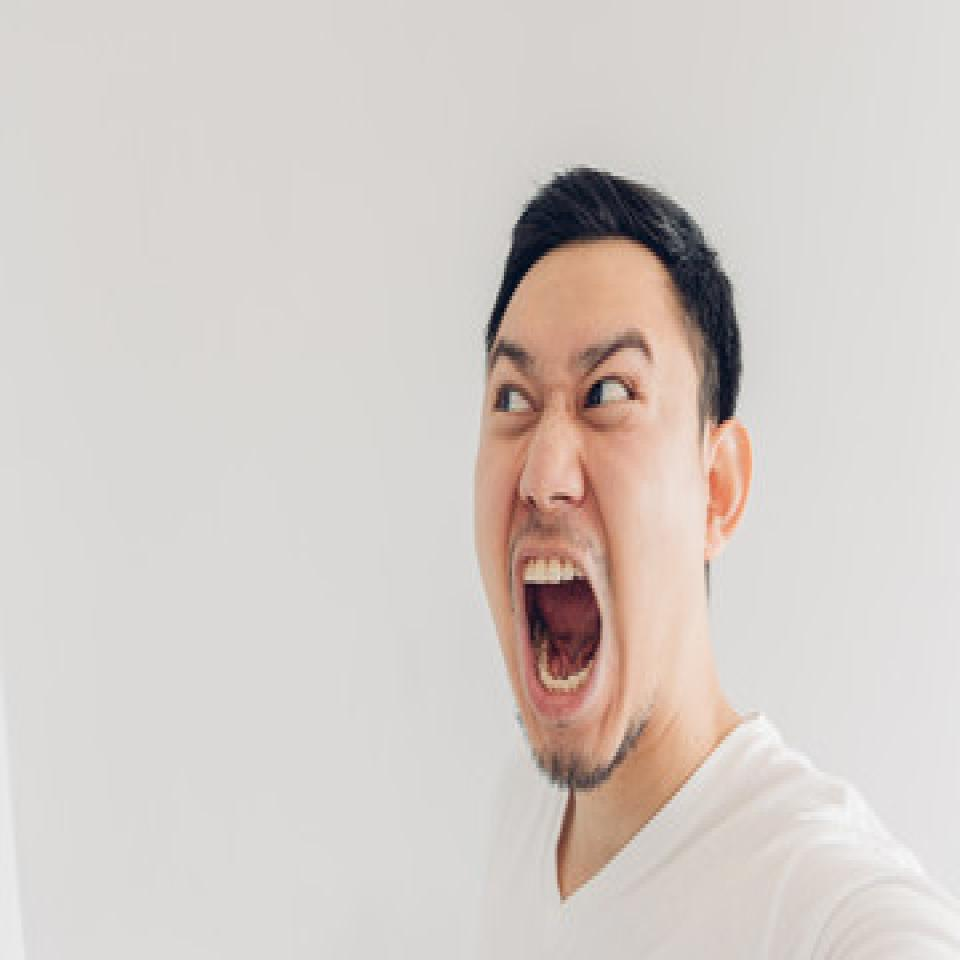Anger: (478, 246, 708, 791)
